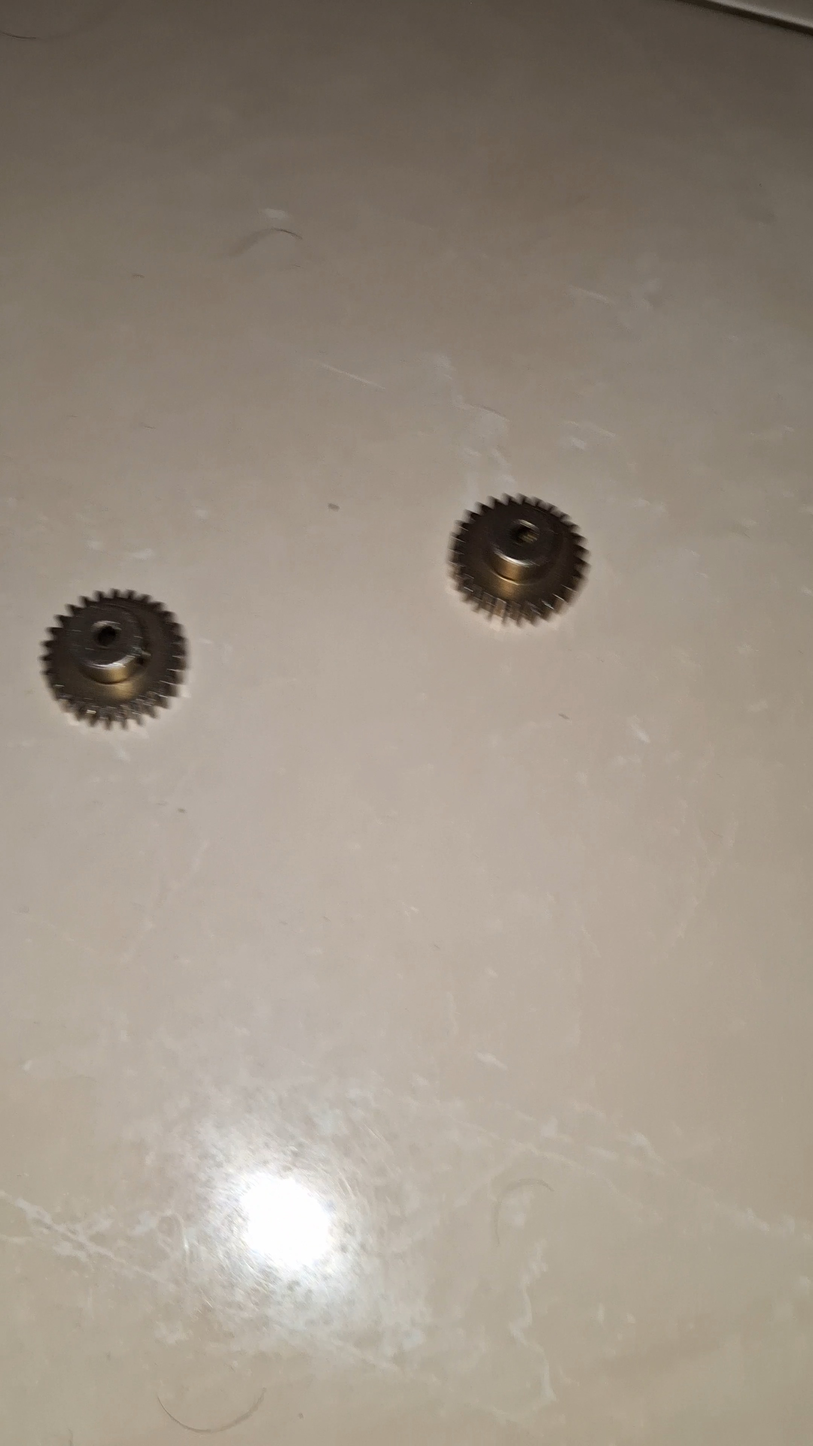spur gear: (42, 591, 186, 727), (450, 495, 587, 622)
